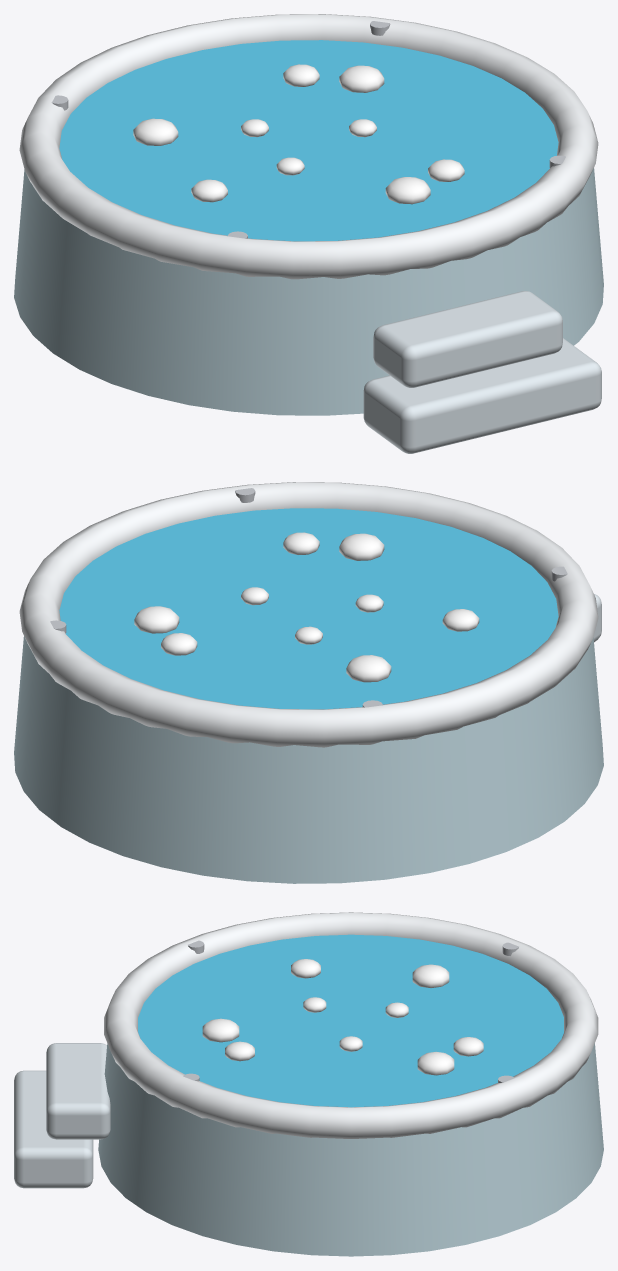
The model's file is jacuzzi.glb.
3 views of the same model, one above another, from view 1: azimuth 30°, elevation 25°; view 2: azimuth 150°, elevation 25°; view 3: azimuth 270°, elevation 25° (orthographic). The views are drawn at different scales.
Size of the model in its own units: 2.04 by 0.62 by 2.38.
